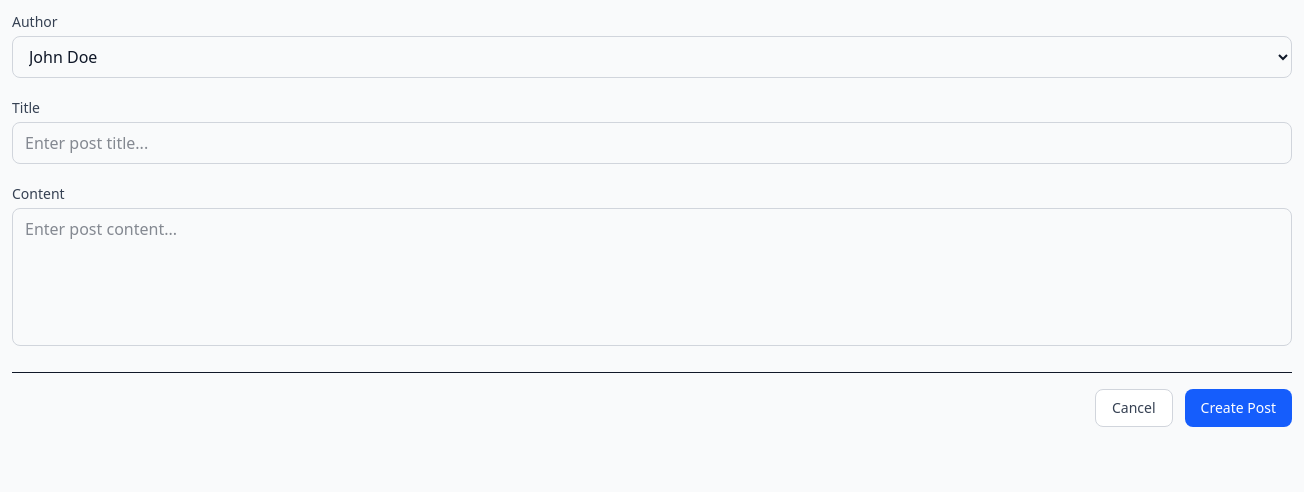
Test: PostForm › validation › shows error when title is too short
The width and height of the screenshot is (1304, 492).
Step 1. Type "AB" into the field labelled "Title" → (652, 143), box [12,122,1292,164]
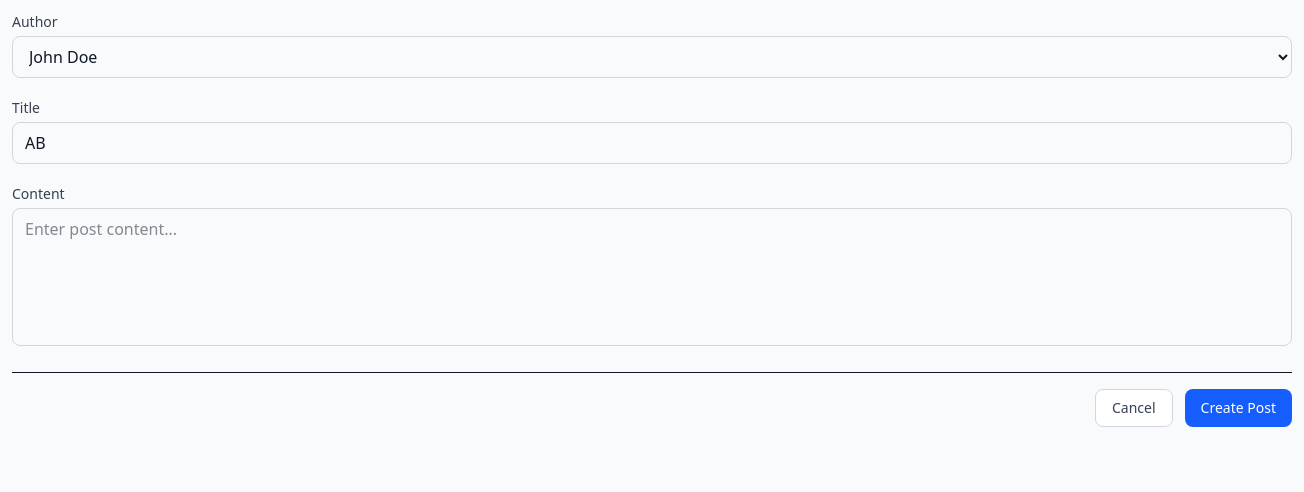
Step 2. Click the button "Create Post" → click(1238, 408), box [1185,389,1292,427]
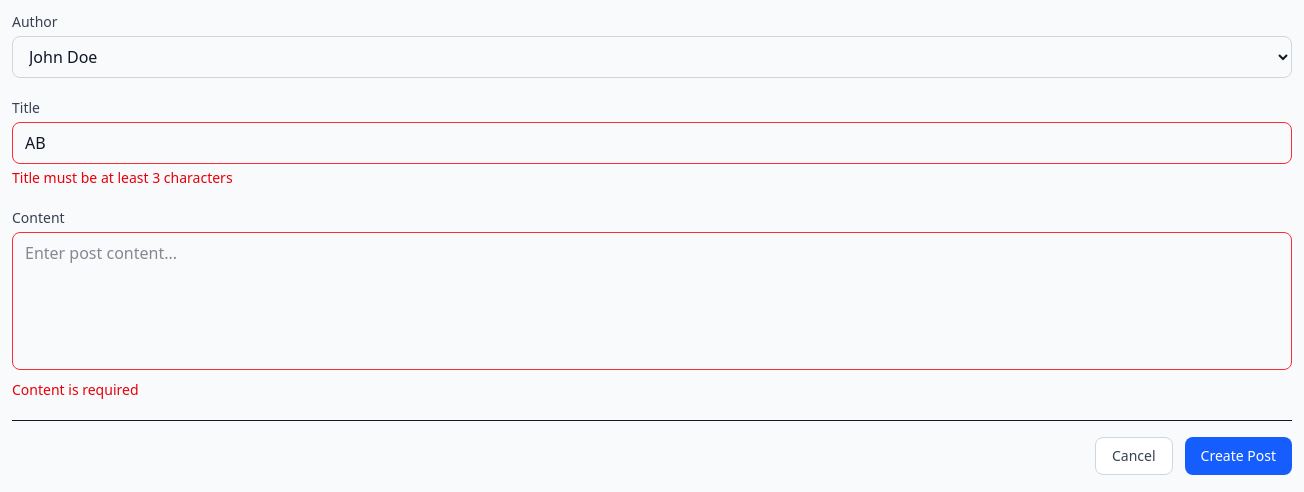
Result: the text "Title must be at least 3 characters" is shown at [12,168,233,187]
